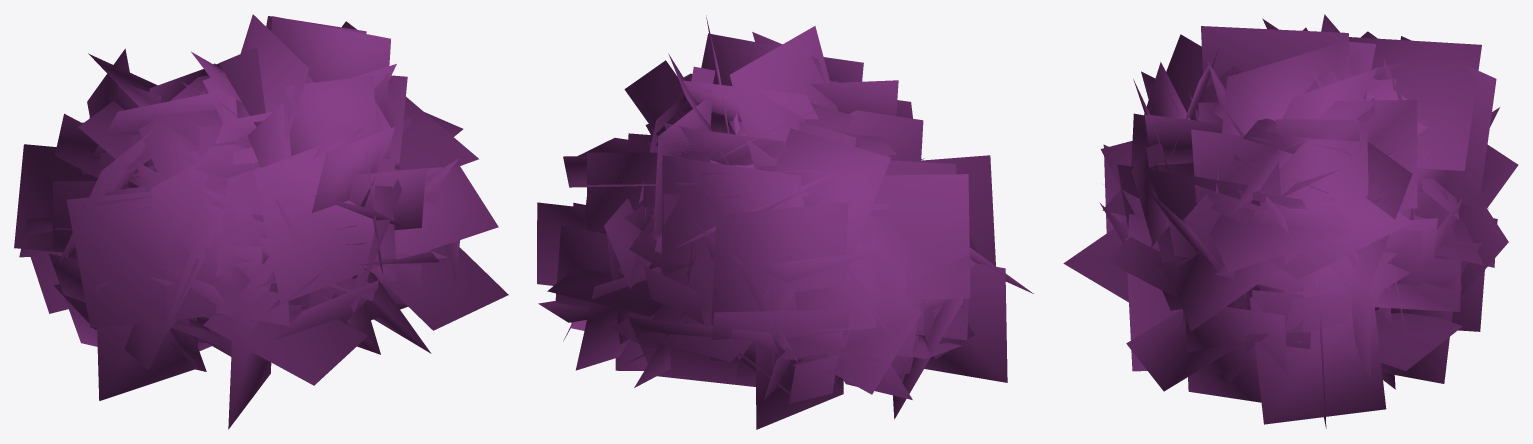
File: AlienBush1.fbx
The picture shows the model from 3 angles, left to right: view 1: azimuth 30°, elevation 25°; view 2: azimuth 150°, elevation 25°; view 3: azimuth 270°, elevation 25°; orthographic projection. The views are drawn at different scales.
Visible parts, largest first — view 1: AlienBush1; view 2: AlienBush1; view 3: AlienBush1.
Part boxes in pixels (x1,y1,x2,y2): AlienBush1: [14, 14, 508, 429]; AlienBush1: [537, 15, 1033, 429]; AlienBush1: [1063, 14, 1518, 428].
Size of the model in its own units: 1.38 by 0.9417 by 1.23.
